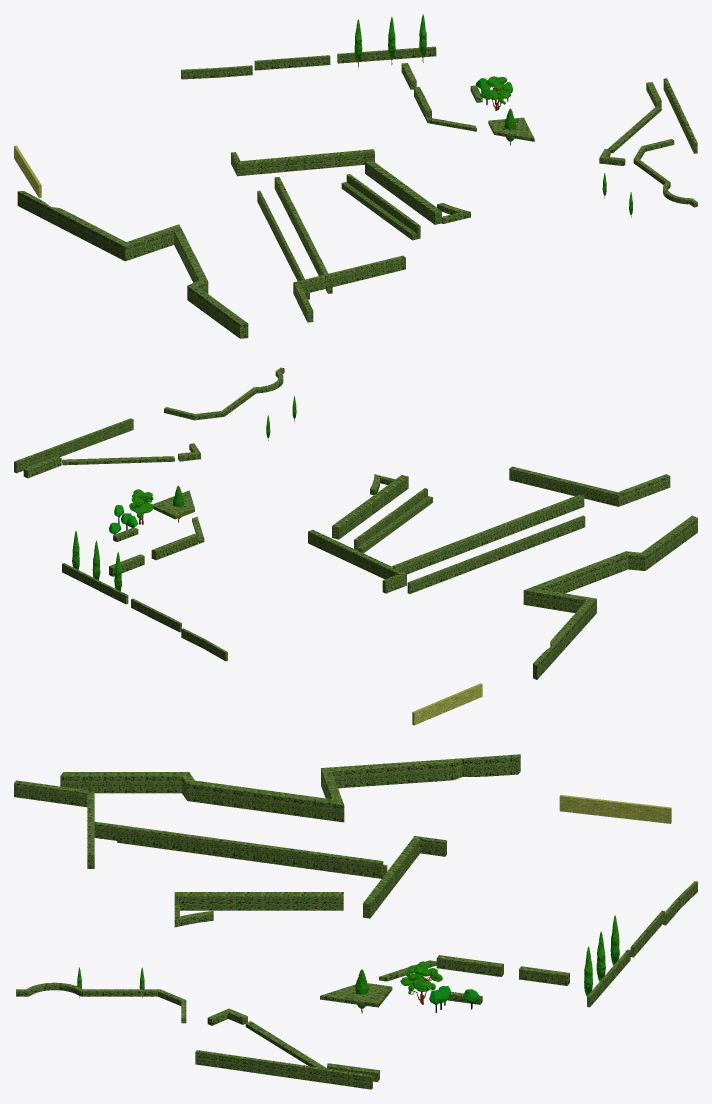
Rendered from venue_vo09_plants.fbx.
3 renders of one model, top to bottom at view 1: azimuth 30°, elevation 25°; view 2: azimuth 150°, elevation 25°; view 3: azimuth 270°, elevation 25°, orthographic. The views are drawn at different scales.
Visible parts, largest first — view 1: Group8, Group15, Group2, Group4, Group9, Group10, Group19, Group5, Group6, Group21, Group3, Group14 (+3 smaller); view 2: Group8, Group9, Group2, Group6, Group17, Group15, Group4, Group1, Group19, Group14, Group5, Group3 (+4 smaller); view 3: Group8, Group9, Group4, Group17, Group1, Group2, Group19, Group15, Group14, Group11, Group18, Group23 (+3 smaller).
Boxes of the visible parts, x1,y1,x2,y2 form: Group8: (17,191,248,338); Group15: (235,149,374,176); Group2: (293,255,405,322); Group4: (365,160,441,224); Group9: (274,177,332,293); Group10: (337,46,436,63); Group19: (633,139,697,207); Group5: (346,174,420,239); Group6: (257,190,309,299); Group21: (254,55,330,70); Group3: (341,182,416,240); Group14: (599,106,661,165); Group8: (523,515,697,679); Group9: (392,494,584,574); Group2: (509,466,670,506); Group6: (407,515,585,593); Group17: (14,418,133,473); Group15: (308,529,406,587); Group4: (332,475,408,539); Group1: (412,683,482,725); Group19: (164,367,284,420); Group14: (62,443,200,465); Group5: (354,488,427,550); Group3: (357,496,432,553); Group8: (60,754,520,822); Group9: (94,821,383,876); Group4: (176,892,343,910); Group17: (195,1050,372,1089); Group1: (559,795,671,823); Group2: (14,780,94,868); Group19: (16,982,186,1023); Group15: (363,836,421,918); Group14: (207,1008,326,1068); Group11: (320,983,392,1007); Group18: (436,955,503,976); Group23: (519,966,569,985).
Bounding box in the file's own units: 76.77 × 9.84 × 65.
